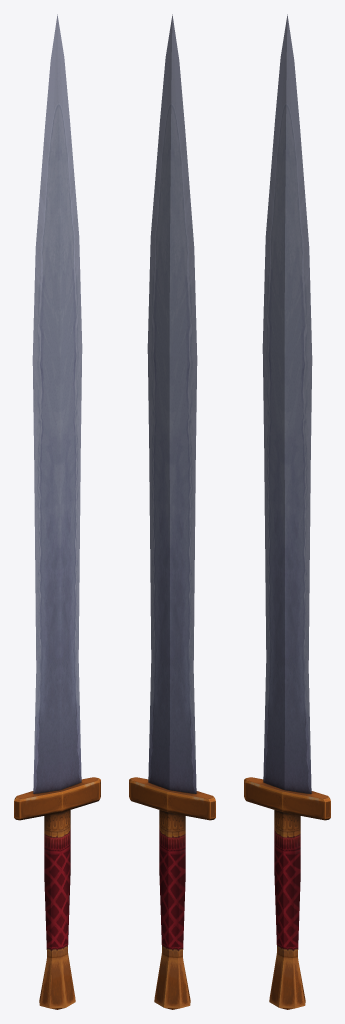
The model's file is Sword.glb.
3 views of the same model, side by side, from view 1: azimuth 30°, elevation 25°; view 2: azimuth 150°, elevation 25°; view 3: azimuth 330°, elevation 25° (orthographic).
Visible parts, largest first — view 1: Sword; view 2: Sword; view 3: Sword.
Part boxes in pixels (x1,y1,x2,y2): Sword: [14, 14, 100, 1009]; Sword: [129, 14, 215, 1009]; Sword: [244, 14, 330, 1009].
Size of the model in its own units: 3.32 by 36.34 by 1.14.
1 material, 1 textured.
